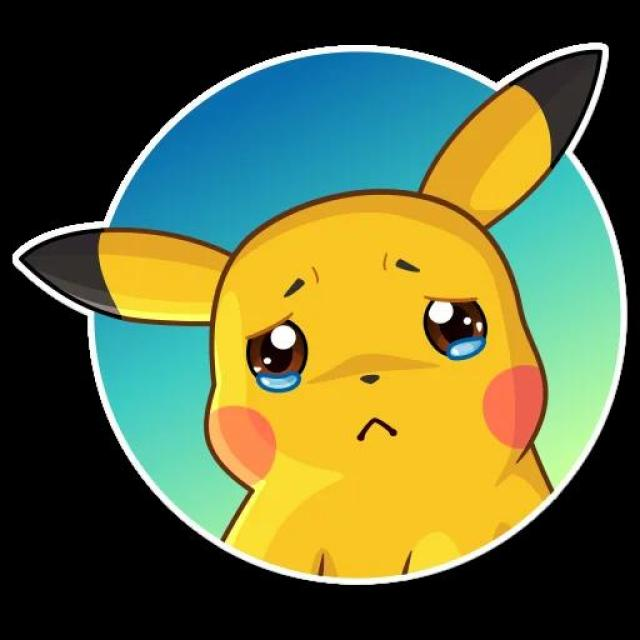pikachu: (20, 50, 601, 576)
